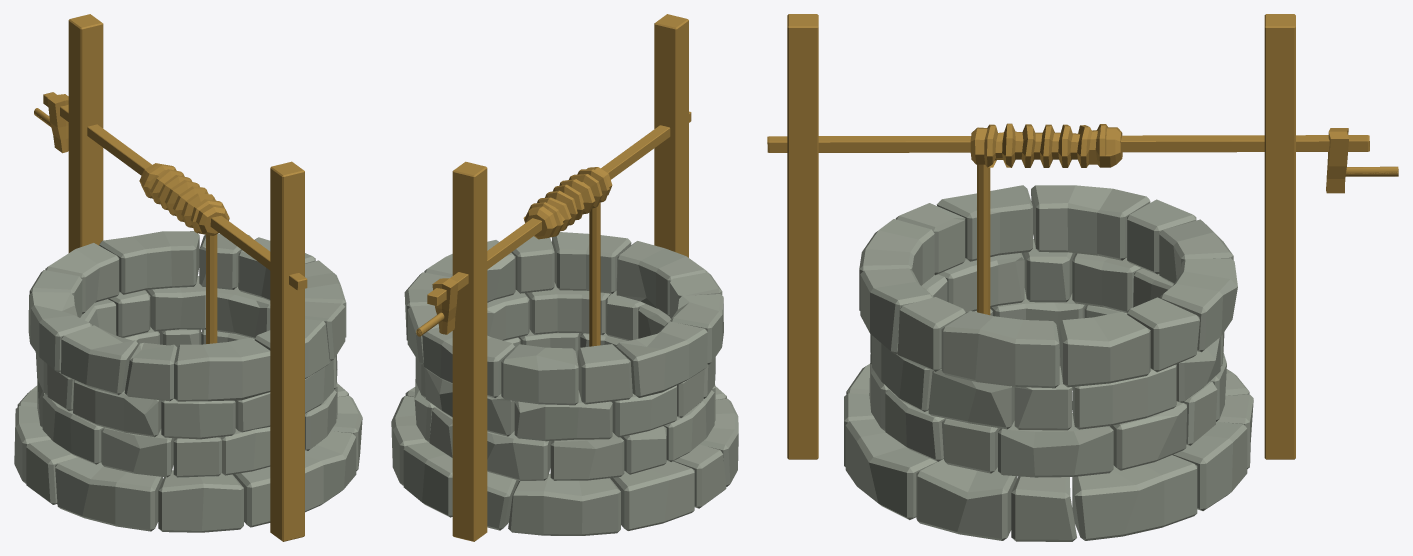
File: well.glb
The picture shows the model from 3 angles, left to right: view 1: azimuth 30°, elevation 25°; view 2: azimuth 150°, elevation 25°; view 3: azimuth 270°, elevation 25°; orthographic projection. The views are drawn at different scales.
Visible parts, largest first — view 1: Cube.003, Cube.004, Cube, Cube.002, Cube.001; view 2: Cube.004, Cube.003, Cube, Cube.002, Cube.001; view 3: Cube.003, Cube.004, Cube, Cube.002, Cube.001.
Part boxes in pixels (x1,y1,x2,y2): Cube.003: [28, 231, 346, 401]; Cube.004: [34, 14, 307, 541]; Cube: [14, 383, 362, 532]; Cube.002: [35, 276, 337, 439]; Cube.001: [37, 327, 337, 477]; Cube.004: [416, 14, 691, 541]; Cube.003: [404, 232, 723, 405]; Cube: [391, 386, 738, 535]; Cube.002: [415, 282, 715, 441]; Cube.001: [414, 329, 715, 480]; Cube.003: [859, 185, 1237, 388]; Cube.004: [767, 14, 1398, 459]; Cube: [844, 349, 1253, 541]; Cube.002: [870, 238, 1224, 430]; Cube.001: [869, 288, 1226, 477].
Size of the model in its own units: 14.85 by 17.39 by 22.78.
